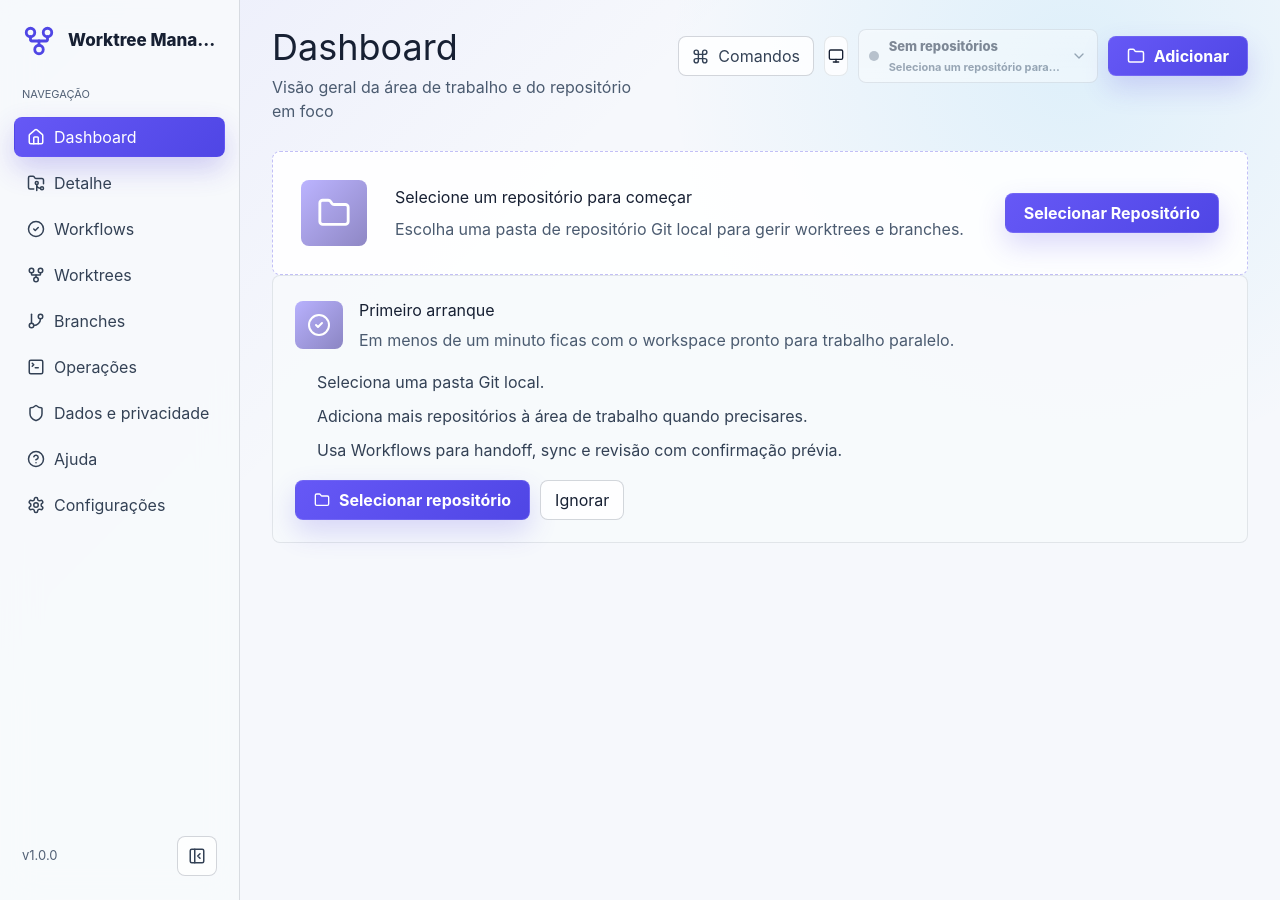
Test: App › dismisses the first-run onboarding panel
This screenshot has width=1280, height=900.
Check: the heading "Primeiro arranque" is shown, box [359, 300, 495, 320]
Click the button "Ignorar". click: {"x": 582, "y": 500}
box: [540, 480, 624, 520]
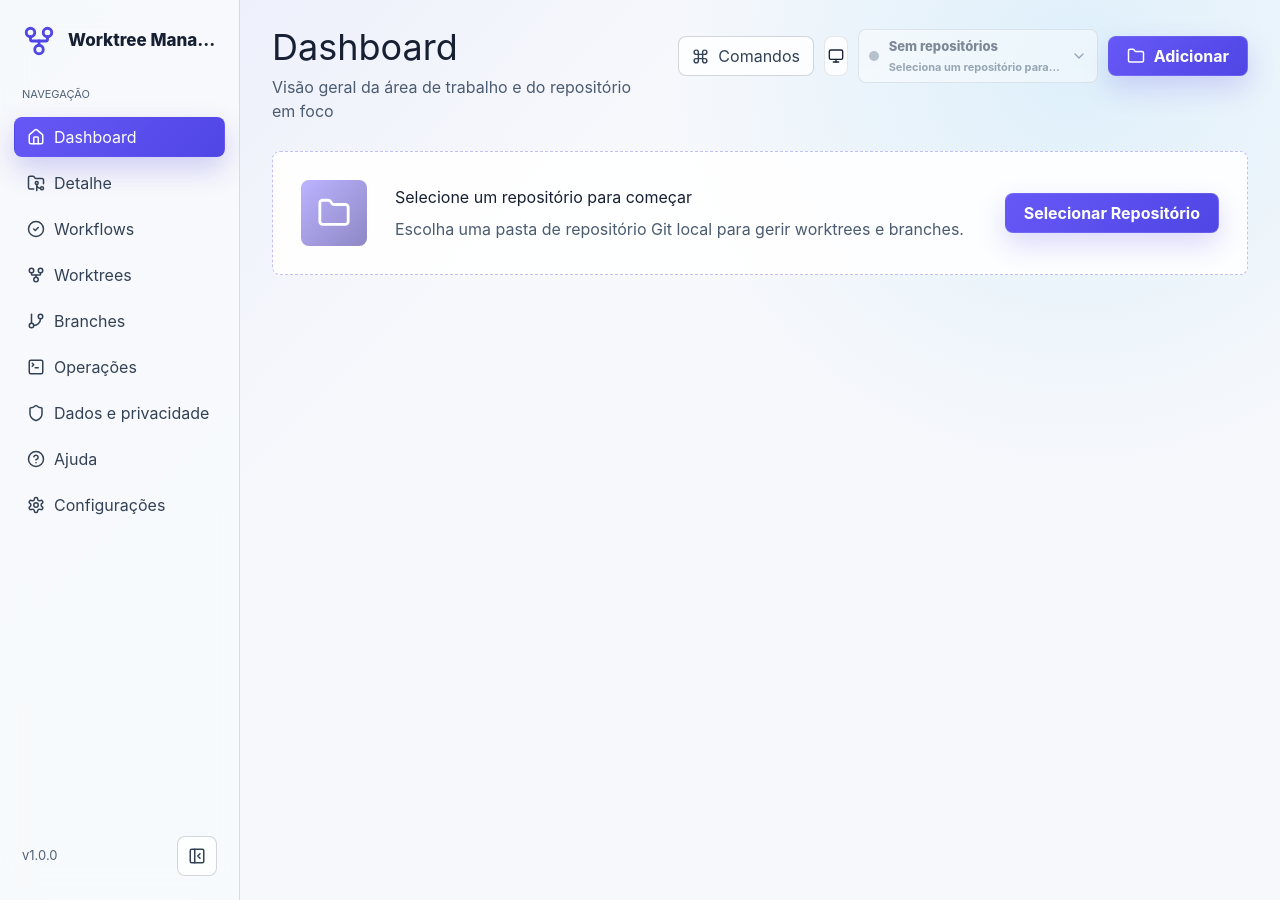
Check: the heading "Primeiro arranque" is gone
